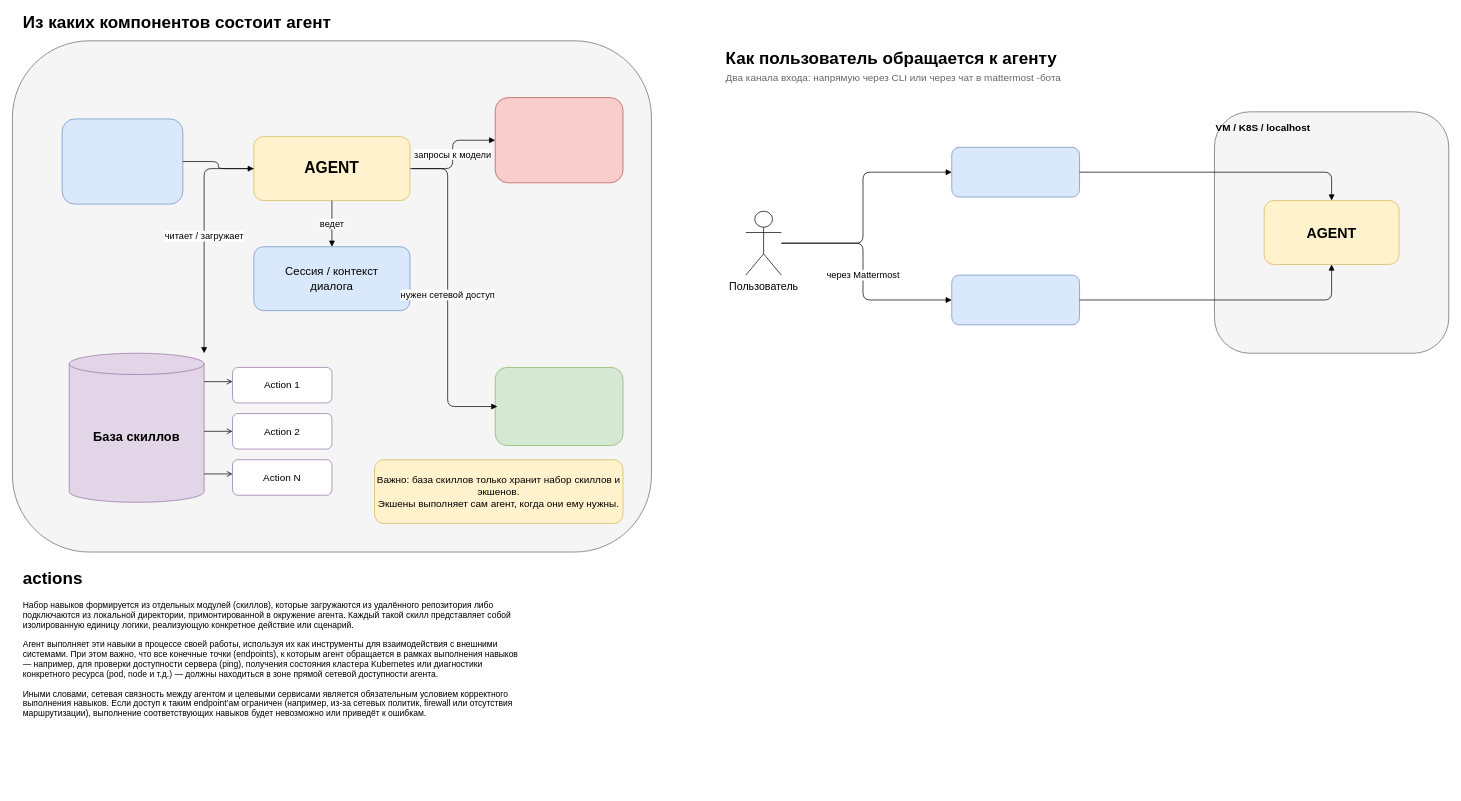
This 1461x801 diagram has some shape labels left out. Here are the shapes that lost their labels. From the top down, the centre of each, then its label:
At [559,140]: "LLM API OpenAI / lama / LM Studio / etc".
At [122,161]: "Точки входа CLI Чат-бот".
At [1015,172]: "CLI".
At [1015,299]: "диалог в канале".
At [559,406]: "Целевые endpoints / внешние системы".
